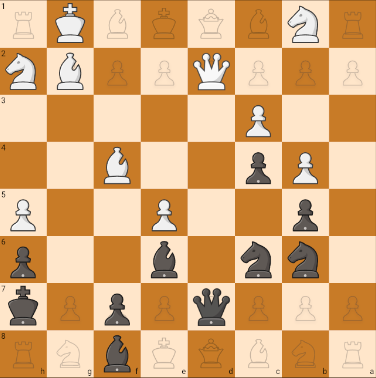bb: (96, 332, 137, 376), (144, 239, 183, 280)
bk: (2, 283, 46, 328)
bn: (237, 239, 277, 281), (286, 240, 324, 280)
bp: (96, 285, 136, 328), (3, 237, 41, 281), (239, 147, 276, 187), (287, 193, 324, 233)
bq: (189, 286, 233, 328)
wb: (96, 145, 137, 187)
wk: (49, 1, 92, 47)
wn: (287, 2, 327, 46), (3, 51, 43, 92)
wp: (284, 145, 326, 187), (238, 99, 278, 138), (1, 193, 42, 231), (147, 194, 183, 234)
wq: (50, 50, 91, 93), (189, 51, 231, 92)
